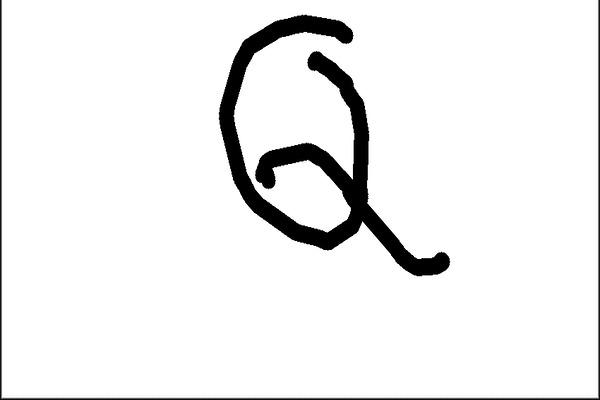Q: (210, 1, 457, 297)
